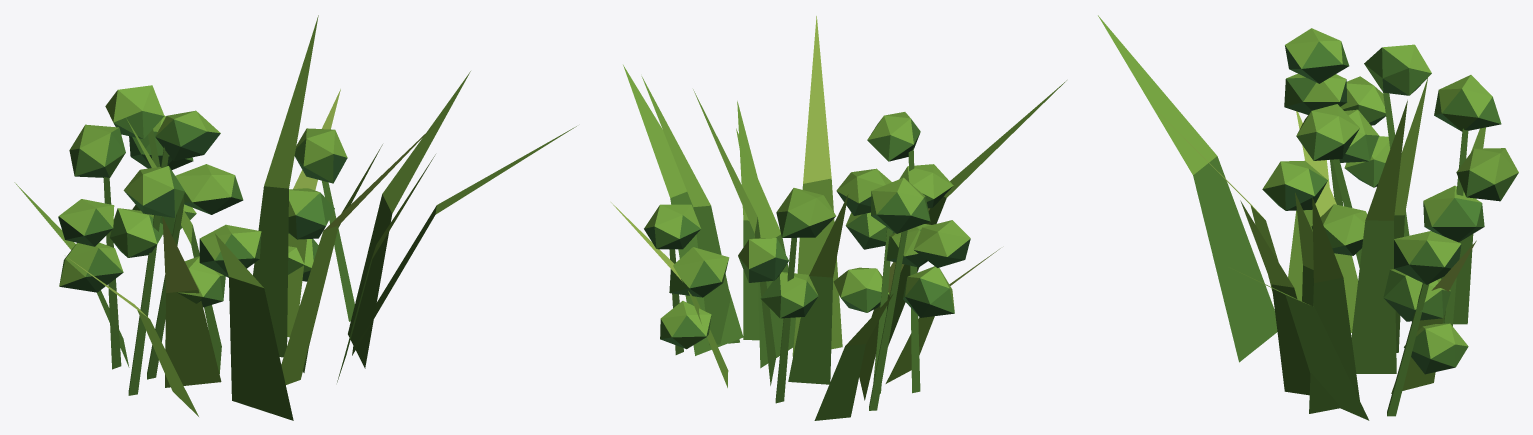
The model's file is G12_SparseWeedyTuft.glb.
3 renders of one model, left to right at view 1: azimuth 30°, elevation 25°; view 2: azimuth 150°, elevation 25°; view 3: azimuth 270°, elevation 25°, orthographic. The views are drawn at different scales.
Parts seen in each view (by area): view 1: G12_SparseWeedyTuft; view 2: G12_SparseWeedyTuft; view 3: G12_SparseWeedyTuft.
Part boxes in pixels (x1=…): G12_SparseWeedyTuft: x1=14, y1=15, x2=576, y2=420; G12_SparseWeedyTuft: x1=611, y1=16, x2=1066, y2=420; G12_SparseWeedyTuft: x1=1098, y1=15, x2=1518, y2=420.
Size of the model in its own units: 0.881 by 0.5699 by 0.6875.
